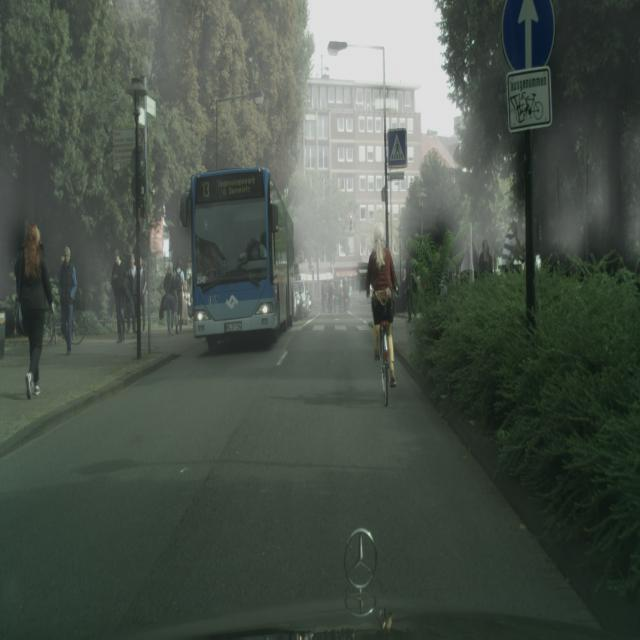bus: (292, 279, 308, 319), (302, 282, 312, 313)
car: (365, 223, 399, 405)
motorcycle: (188, 168, 295, 354)
person: (15, 222, 54, 400), (59, 245, 78, 357), (111, 249, 127, 344), (162, 263, 175, 336), (125, 254, 137, 332), (174, 259, 185, 334), (139, 258, 148, 331), (478, 239, 493, 274), (343, 277, 350, 312), (321, 281, 327, 314), (338, 279, 343, 313)
